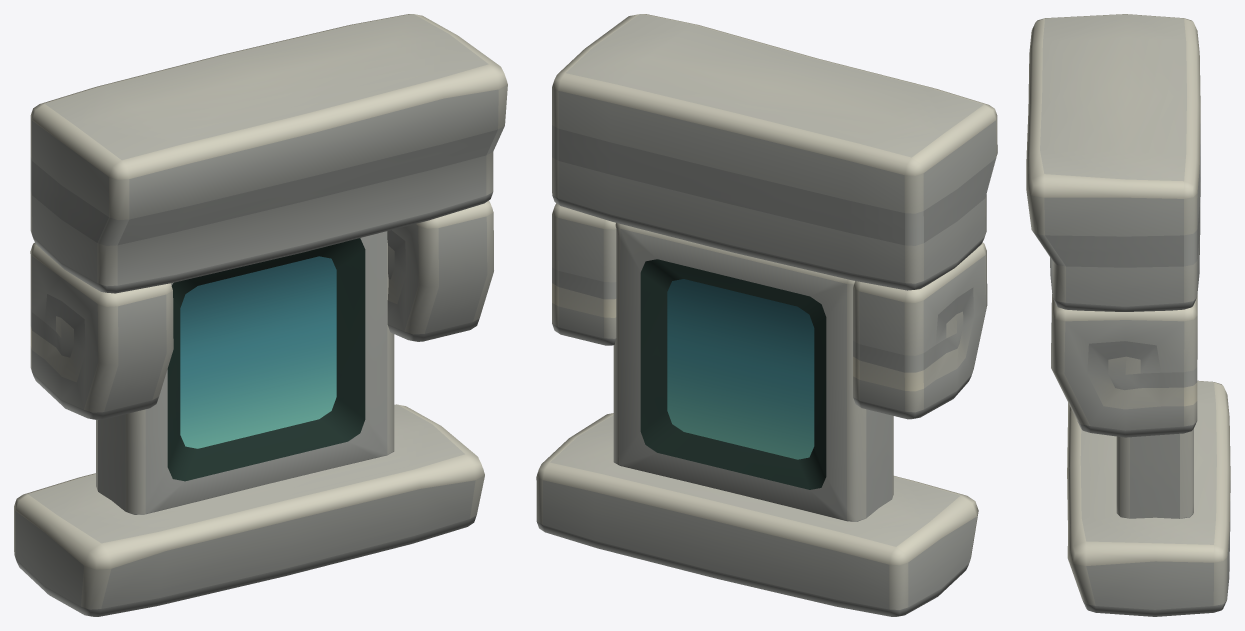
File: window_ornate2_LOD_setup.fbx
3 views of the same model, side by side, from view 1: azimuth 30°, elevation 25°; view 2: azimuth 150°, elevation 25°; view 3: azimuth 270°, elevation 25° (orthographic). The views are drawn at different scales.
Visible parts, largest first — view 1: window_ornate2_LOD0; view 2: window_ornate2_LOD0; view 3: window_ornate2_LOD0.
Part boxes in pixels (x1=…): window_ornate2_LOD0: x1=14, y1=14, x2=507, y2=616; window_ornate2_LOD0: x1=536, y1=14, x2=997, y2=616; window_ornate2_LOD0: x1=1026, y1=14, x2=1230, y2=616.
Size of what is drawn, in the model's own units: 156 by 183 by 76.33.
